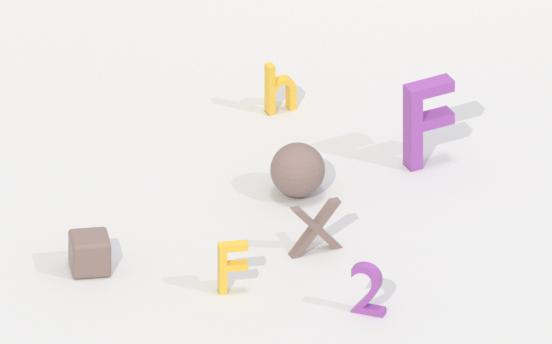2: (344, 260, 394, 321)
F: (396, 74, 465, 171), (212, 234, 257, 300)
cau: (267, 140, 329, 200)
h: (260, 59, 303, 119)
hop: (65, 225, 119, 283)
x: (285, 196, 346, 259)
